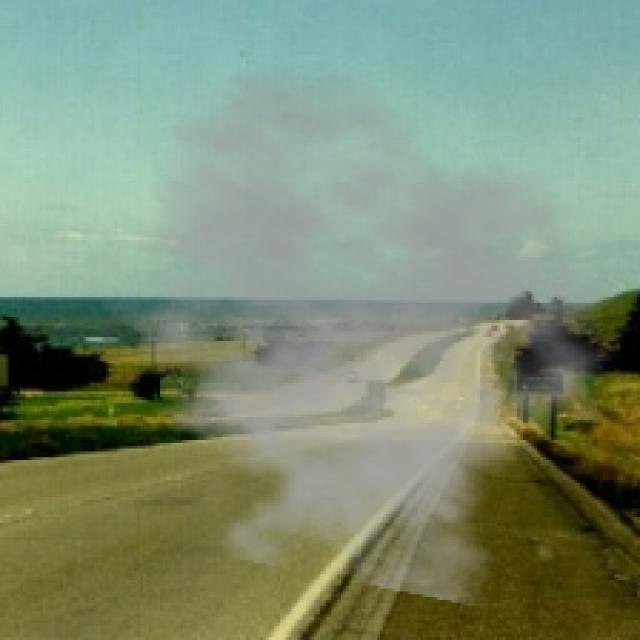Smoke: (77, 62, 629, 608)
